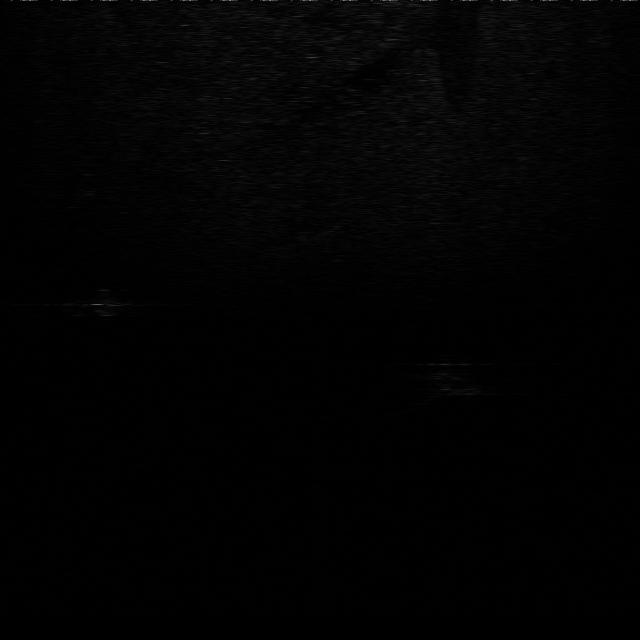circle cage: (65, 287, 139, 320)
tyre: (418, 355, 488, 401)
